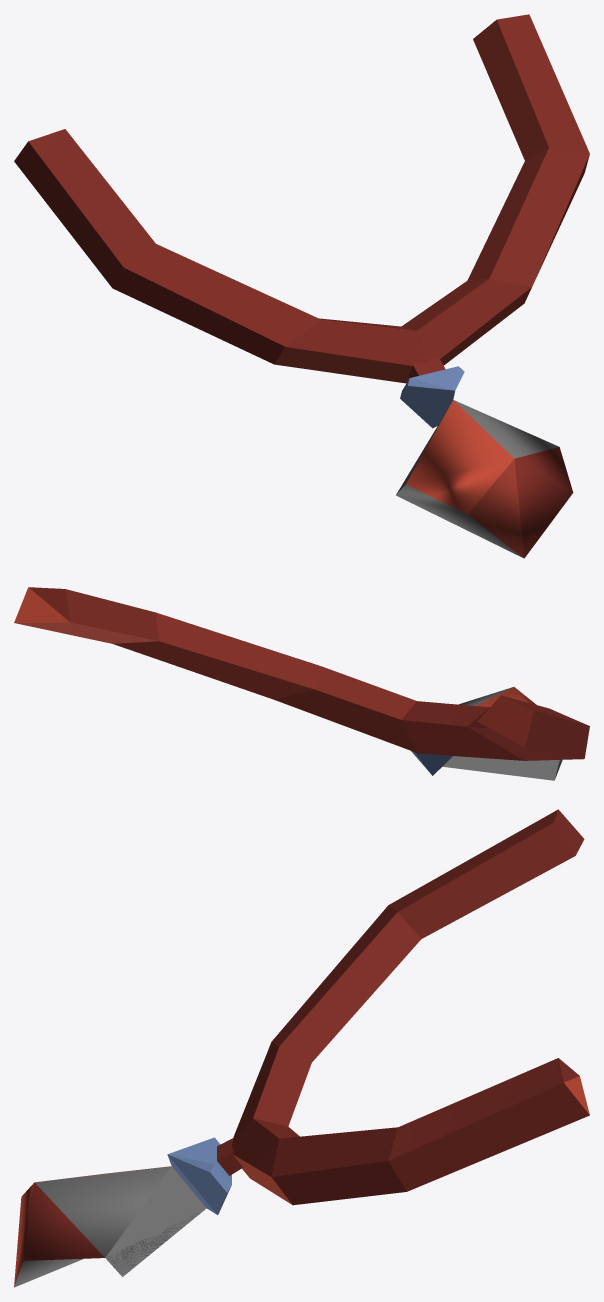
File: Prop.Necklace_05.fbx
3 renders of one model, top to bottom at view 1: azimuth 30°, elevation 25°; view 2: azimuth 150°, elevation 25°; view 3: azimuth 270°, elevation 25°, orthographic. The views are drawn at different scales.
Parts seen in each view (by area): view 1: Prop_Necklace_05; view 2: Prop_Necklace_05; view 3: Prop_Necklace_05.
Boxes of the visible parts, x1,y1,x2,y2 form: Prop_Necklace_05: (14,14,589,558); Prop_Necklace_05: (14,587,589,780); Prop_Necklace_05: (14,809,589,1287).
Size of the model in its own units: 17.17 by 9.97 by 14.98.
